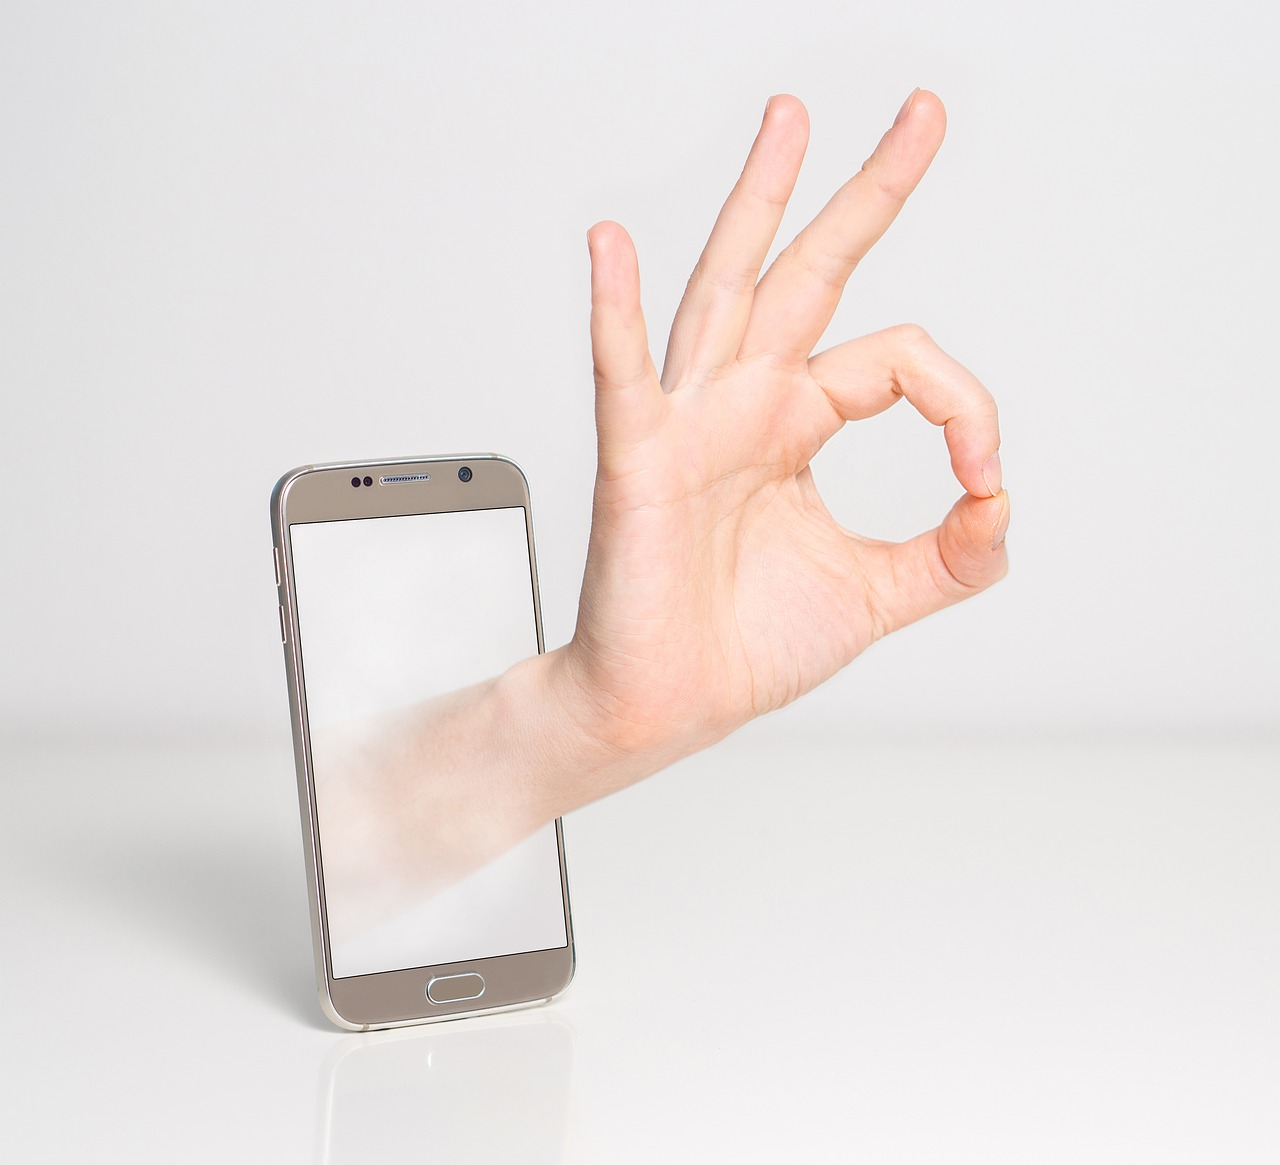oksign: (575, 138, 1035, 715)
